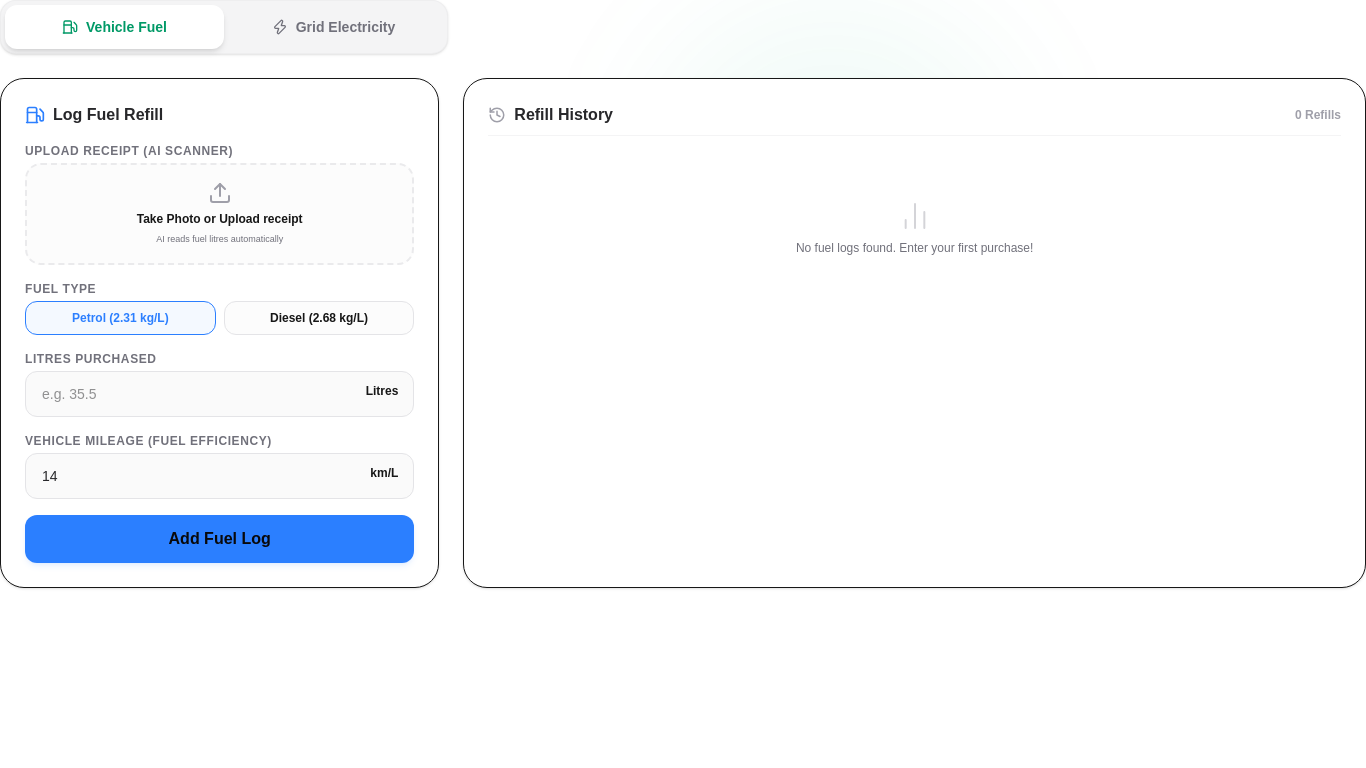
LoggersView Validation Tests › Fuel Litres Input › rejects a negative value
Note: Enter negative litres
Step 1. Type "-12.5" into the number field labelled "Litres Purchased" → (220, 394), box [25, 370, 414, 416]
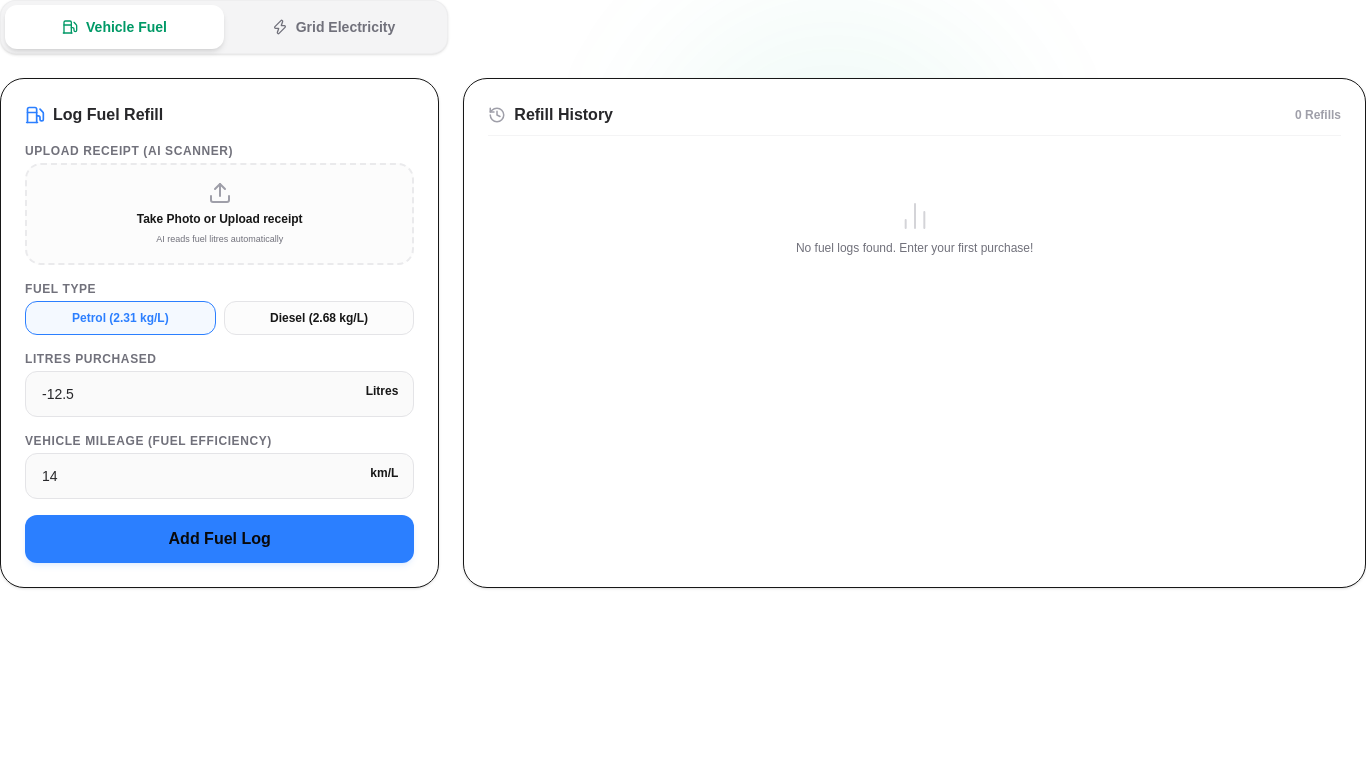
Step 2. Click the button "Add Fuel Log" → click(220, 538), box [25, 514, 414, 562]
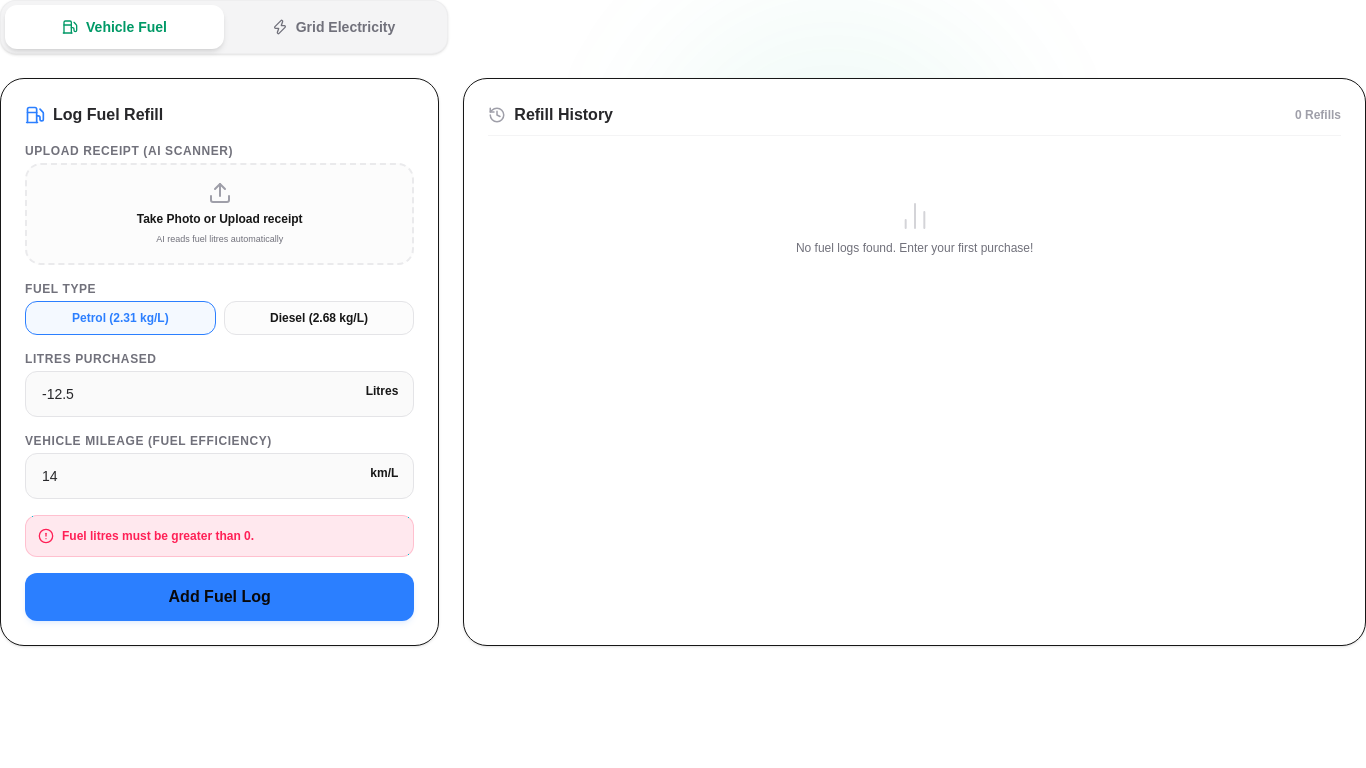
expect the message shows "Fuel litres must be greater than 0": met, box [62, 528, 254, 542]
